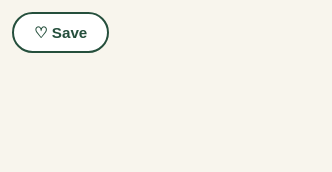
Test case: Favourite Button component › toggles the saved/save when the button is clicked
The width and height of the screenshot is (332, 172).
Later steps or results of the test are not shown.
Click the button at (61, 33), box [12,12,109,53]
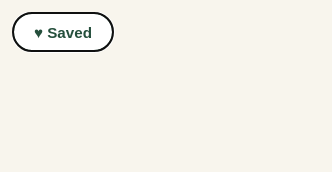
Now the button shows "Saved", box [12,12,114,52]
